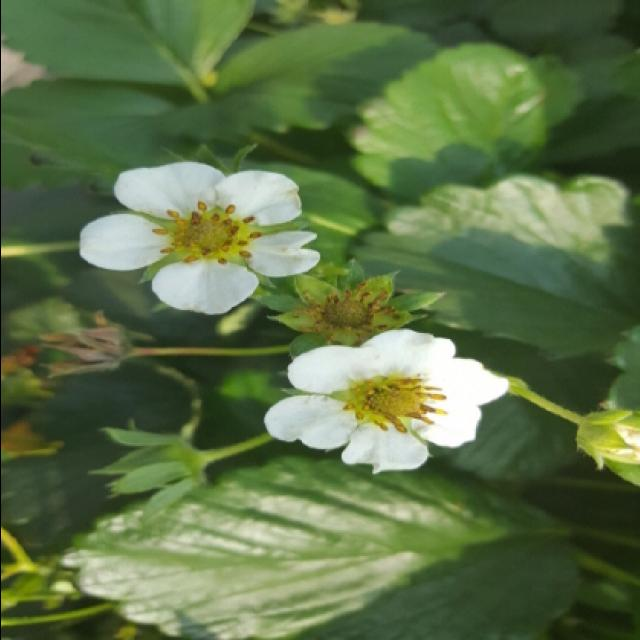Blossom Blight: (148, 194, 263, 271), (331, 374, 450, 440), (306, 273, 399, 342)
